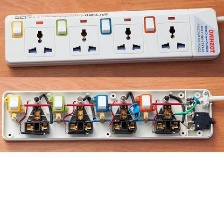three_eye_plug: (2, 5, 223, 71), (0, 85, 216, 145)
